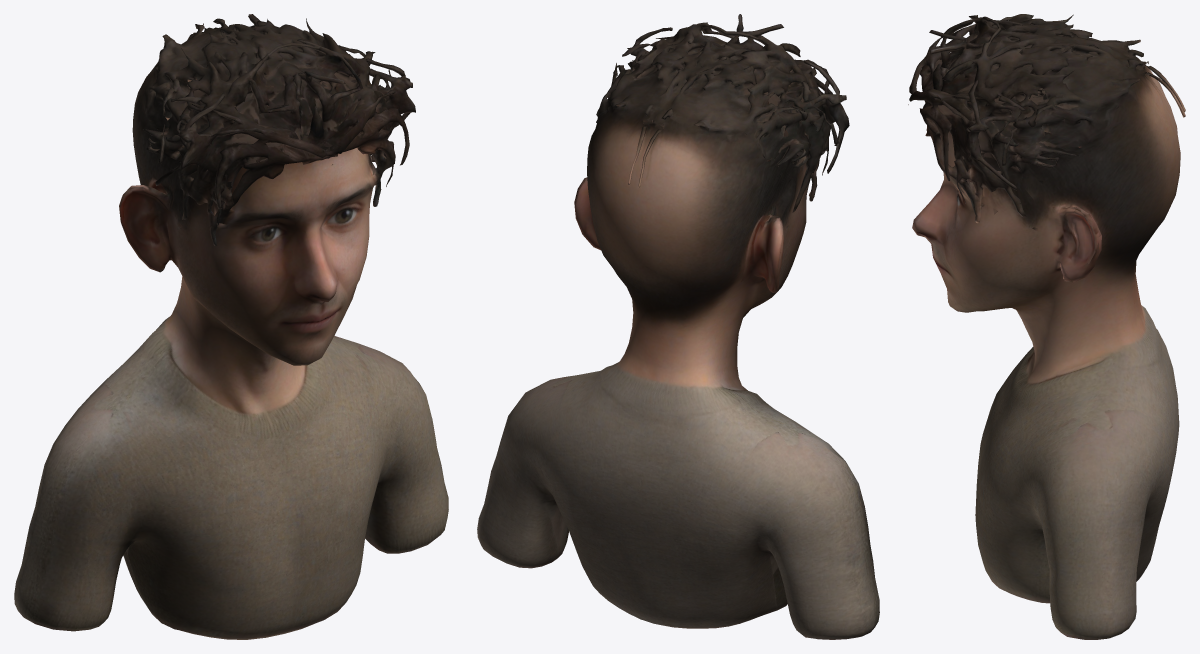
The model's file is modelman.glb.
3 views of the same model, side by side, from view 1: azimuth 30°, elevation 25°; view 2: azimuth 150°, elevation 25°; view 3: azimuth 270°, elevation 25° (orthographic). The views are drawn at different scales.
Bounding box in the file's own units: 1.48 × 1.98 × 0.9106.
Materials: 1 (1 with a texture image).
